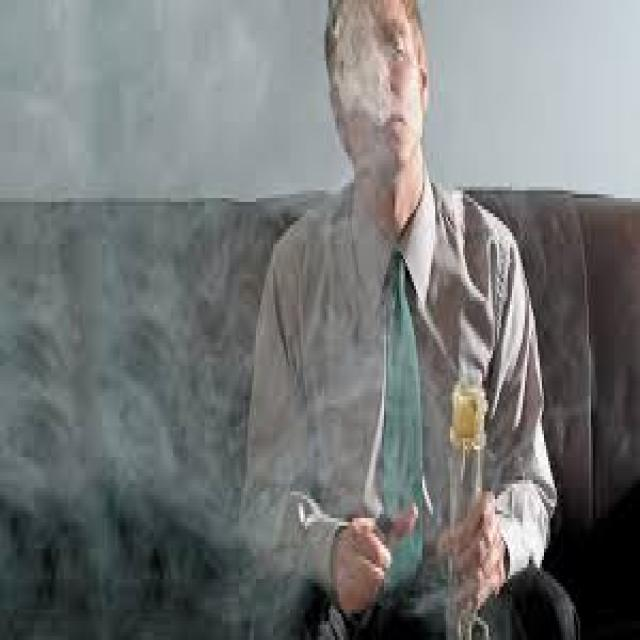Smoke: (0, 0, 612, 623)
